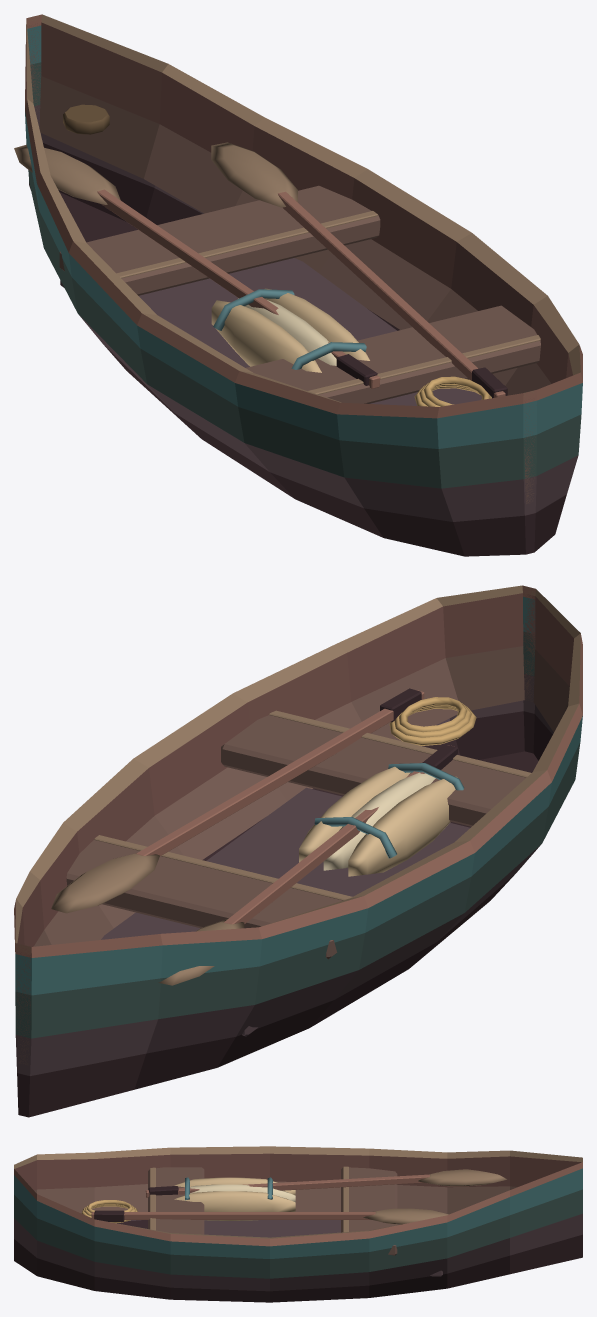
The model's file is rowboat.glb.
The picture shows the model from 3 angles, top to bottom: view 1: azimuth 30°, elevation 25°; view 2: azimuth 150°, elevation 25°; view 3: azimuth 270°, elevation 25°; orthographic projection. The views are drawn at different scales.
Visible parts, largest first — view 1: rowboat; view 2: rowboat; view 3: rowboat.
Boxes of the visible parts, bbox=[...] form: rowboat: bbox=[14, 14, 582, 556]; rowboat: bbox=[14, 585, 582, 1117]; rowboat: bbox=[14, 1146, 582, 1302].
Bounding box in the file's own units: 0.788 × 0.4374 × 1.99.
